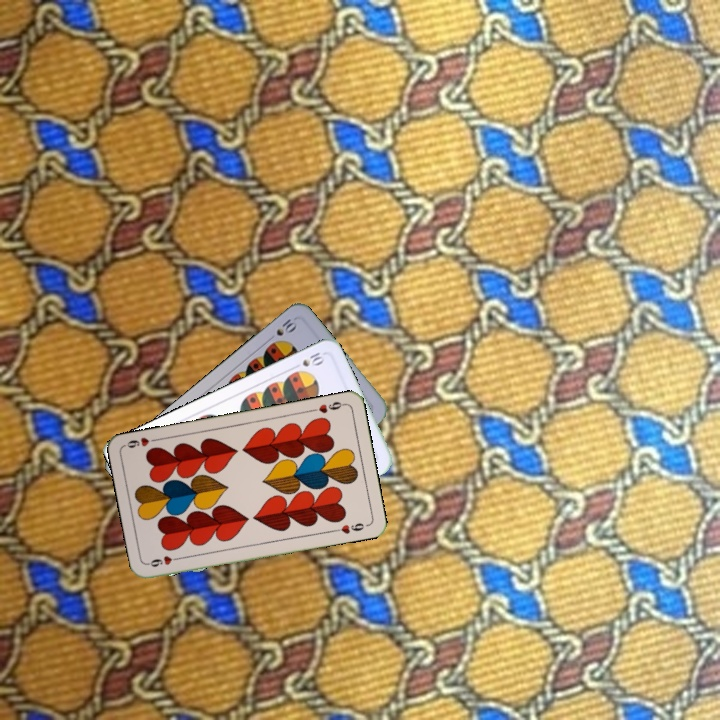H9: (307, 397, 348, 416), (144, 551, 185, 570)
S10: (263, 314, 300, 344), (288, 347, 327, 372)
